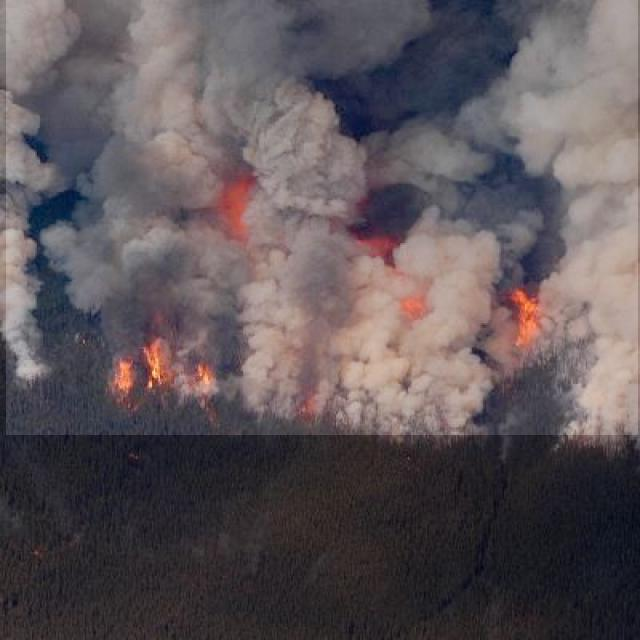Fire: (106, 330, 220, 404), (500, 284, 565, 361), (211, 183, 270, 249), (350, 223, 406, 274), (399, 279, 432, 332), (292, 383, 323, 427)
Smoke: (6, 0, 638, 435)
